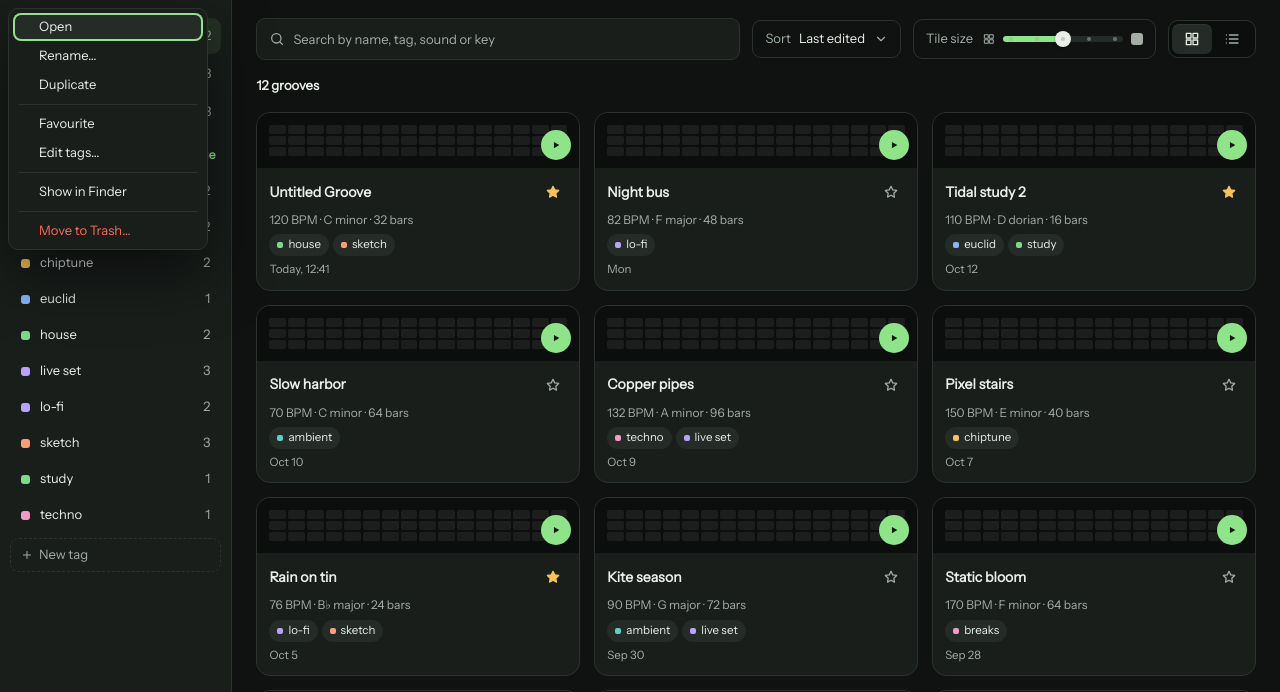
GrooveBrowser › should rename a groove from the context menu
The width and height of the screenshot is (1280, 692).
Expected: the text "12 grooves" is shown, [256,77,319,95]
Click the menu item "Rename…": click(108, 56) [13,42,203,70]
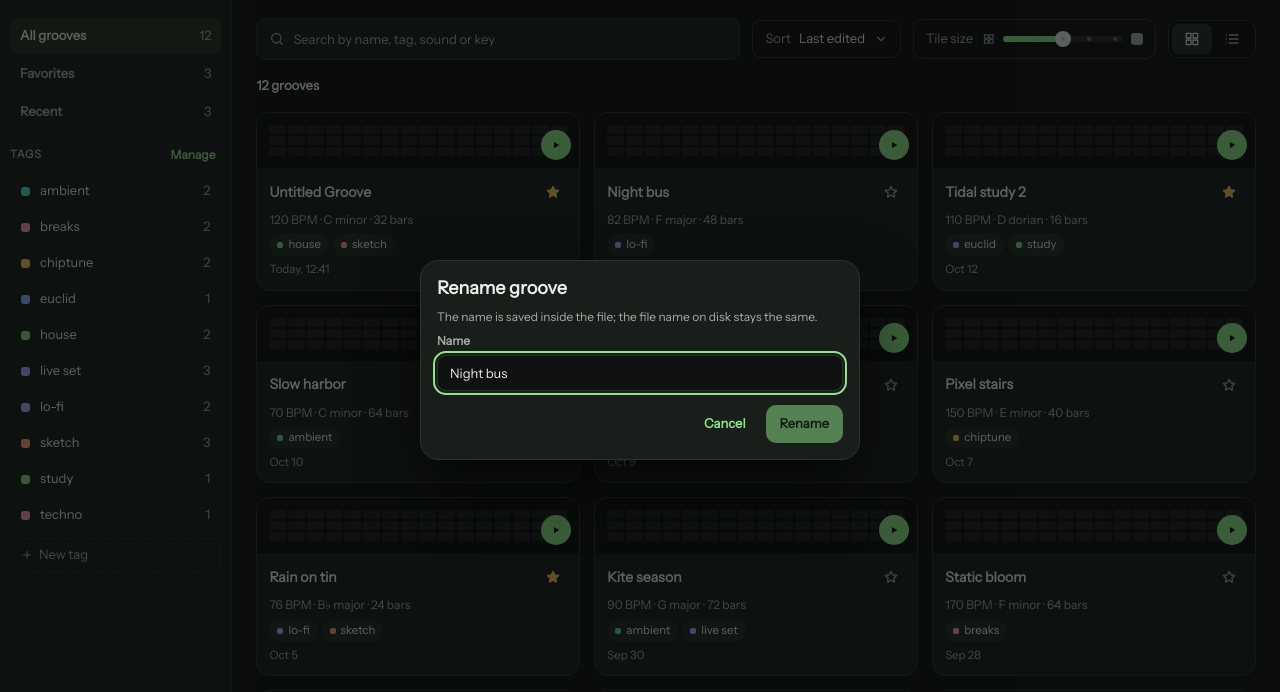
Replace the text in the field labelled "Name" with "Last bus": (640, 373) [450,356,830,390]
Then press Enter
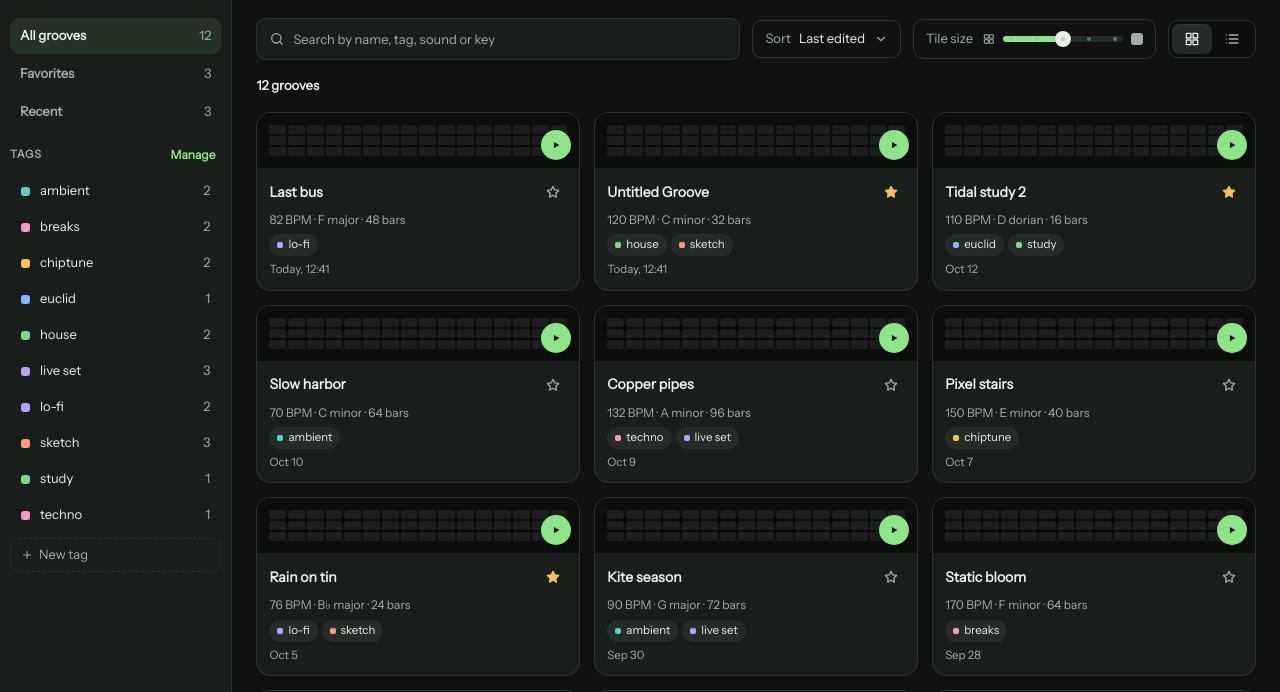
Expected: the heading "Last bus" is shown, [269,182,323,200]
Expected: the dialog is gone
